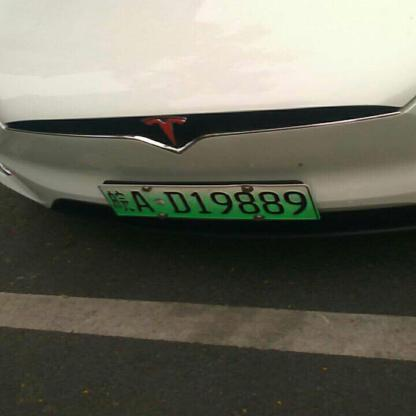lp: (98, 184, 320, 218)
